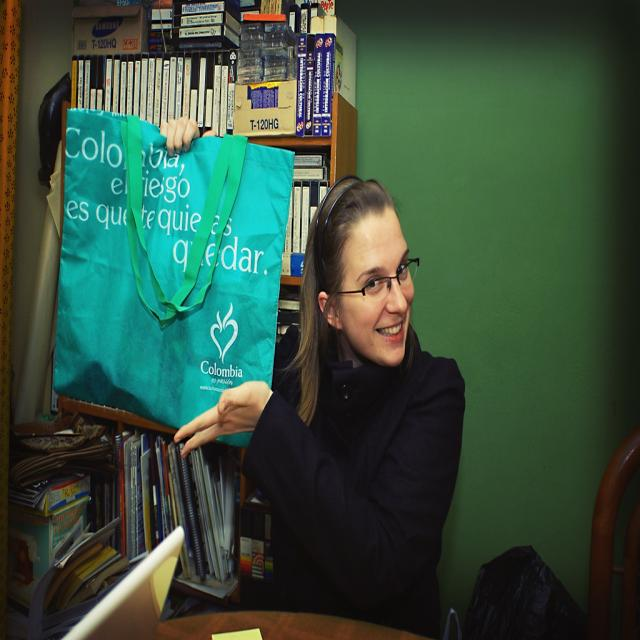Book: (115, 432, 238, 580), (46, 532, 104, 614), (57, 542, 119, 606), (73, 559, 127, 607), (141, 437, 146, 451)
